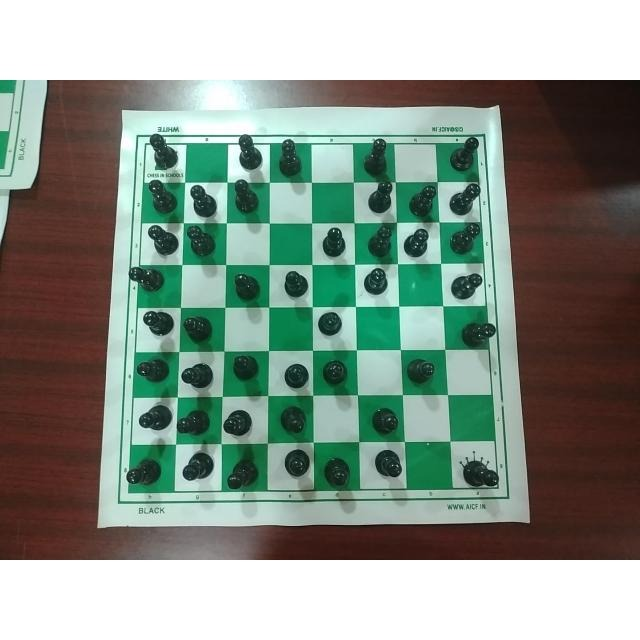black-pawn: (357, 135, 397, 176), (225, 131, 264, 173), (184, 176, 219, 220), (446, 133, 484, 173), (458, 457, 502, 491), (180, 308, 218, 347), (134, 399, 172, 438), (143, 132, 180, 171), (144, 175, 180, 215), (459, 313, 498, 349), (404, 351, 440, 389), (226, 176, 258, 218), (273, 133, 304, 176), (145, 221, 181, 258), (359, 177, 395, 213), (449, 179, 483, 217), (367, 405, 405, 439), (127, 261, 167, 293), (320, 353, 355, 389), (181, 451, 216, 487), (226, 455, 260, 492), (401, 222, 432, 262), (176, 360, 214, 392), (125, 459, 163, 491), (220, 406, 255, 440), (364, 222, 396, 259), (408, 182, 438, 221), (322, 452, 351, 492), (226, 352, 261, 385), (231, 268, 263, 304), (449, 268, 485, 300), (373, 446, 405, 482), (447, 224, 482, 256), (176, 408, 211, 440), (278, 401, 310, 436), (281, 264, 312, 300), (132, 354, 168, 385), (360, 263, 392, 297), (143, 305, 175, 339), (279, 359, 311, 393), (184, 222, 215, 257), (320, 222, 346, 262), (314, 308, 346, 340), (280, 448, 311, 480)
